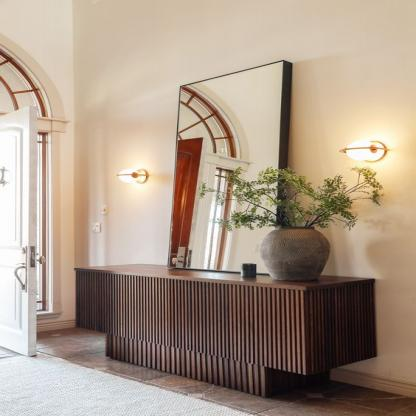Sideboard: (75, 266, 378, 398)
